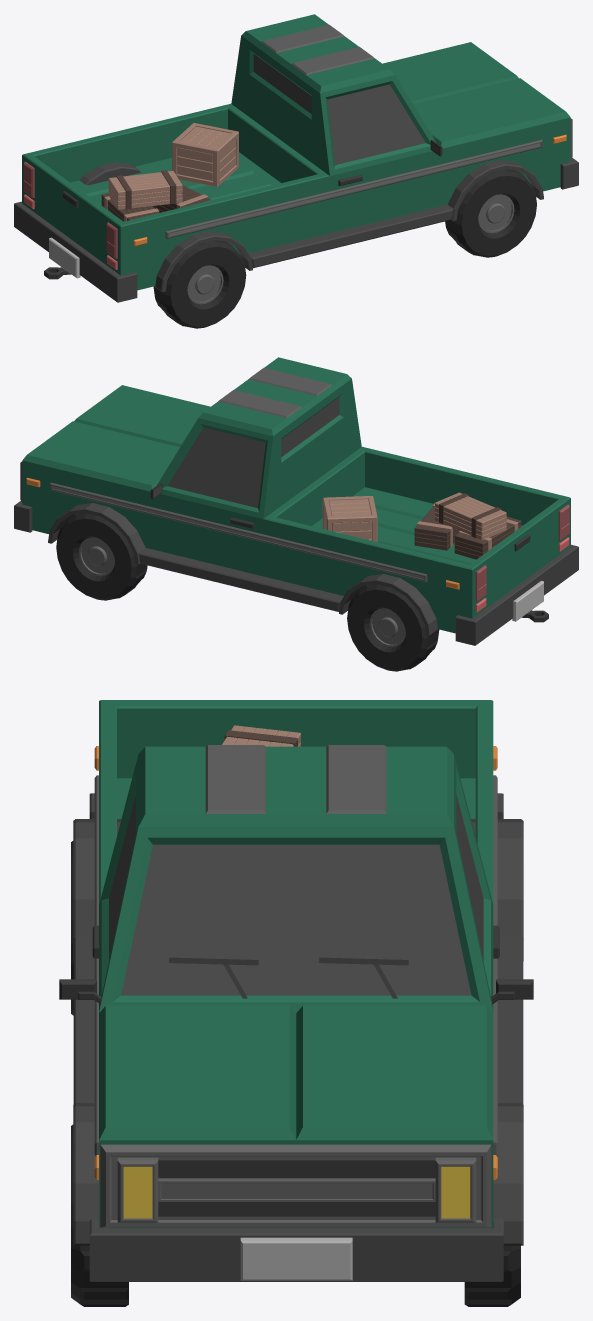
File: car-a02-3.glb
The picture shows the model from 3 angles, top to bottom: view 1: azimuth 30°, elevation 25°; view 2: azimuth 150°, elevation 25°; view 3: azimuth 270°, elevation 25°; orthographic projection. The views are drawn at different scales.
Visible parts, largest first — view 1: car_a02_003; view 2: car_a02_003; view 3: car_a02_003.
Boxes of the visible parts, box(x1,y1,x2,y2) form: car_a02_003: box(14, 14, 578, 328); car_a02_003: box(14, 357, 578, 671); car_a02_003: box(59, 700, 533, 1306).
Size of the model in its own units: 6.4 by 2.51 by 2.71.
Materials: 2 (2 with a texture image).
